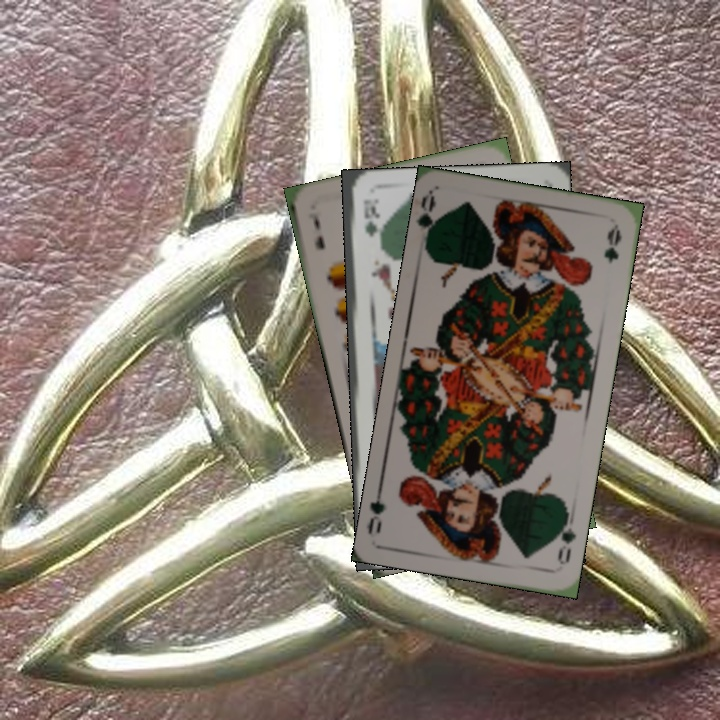E7: (304, 208, 328, 252)
GK: (360, 195, 378, 239)
GO: (415, 192, 444, 252), (550, 510, 579, 568)
